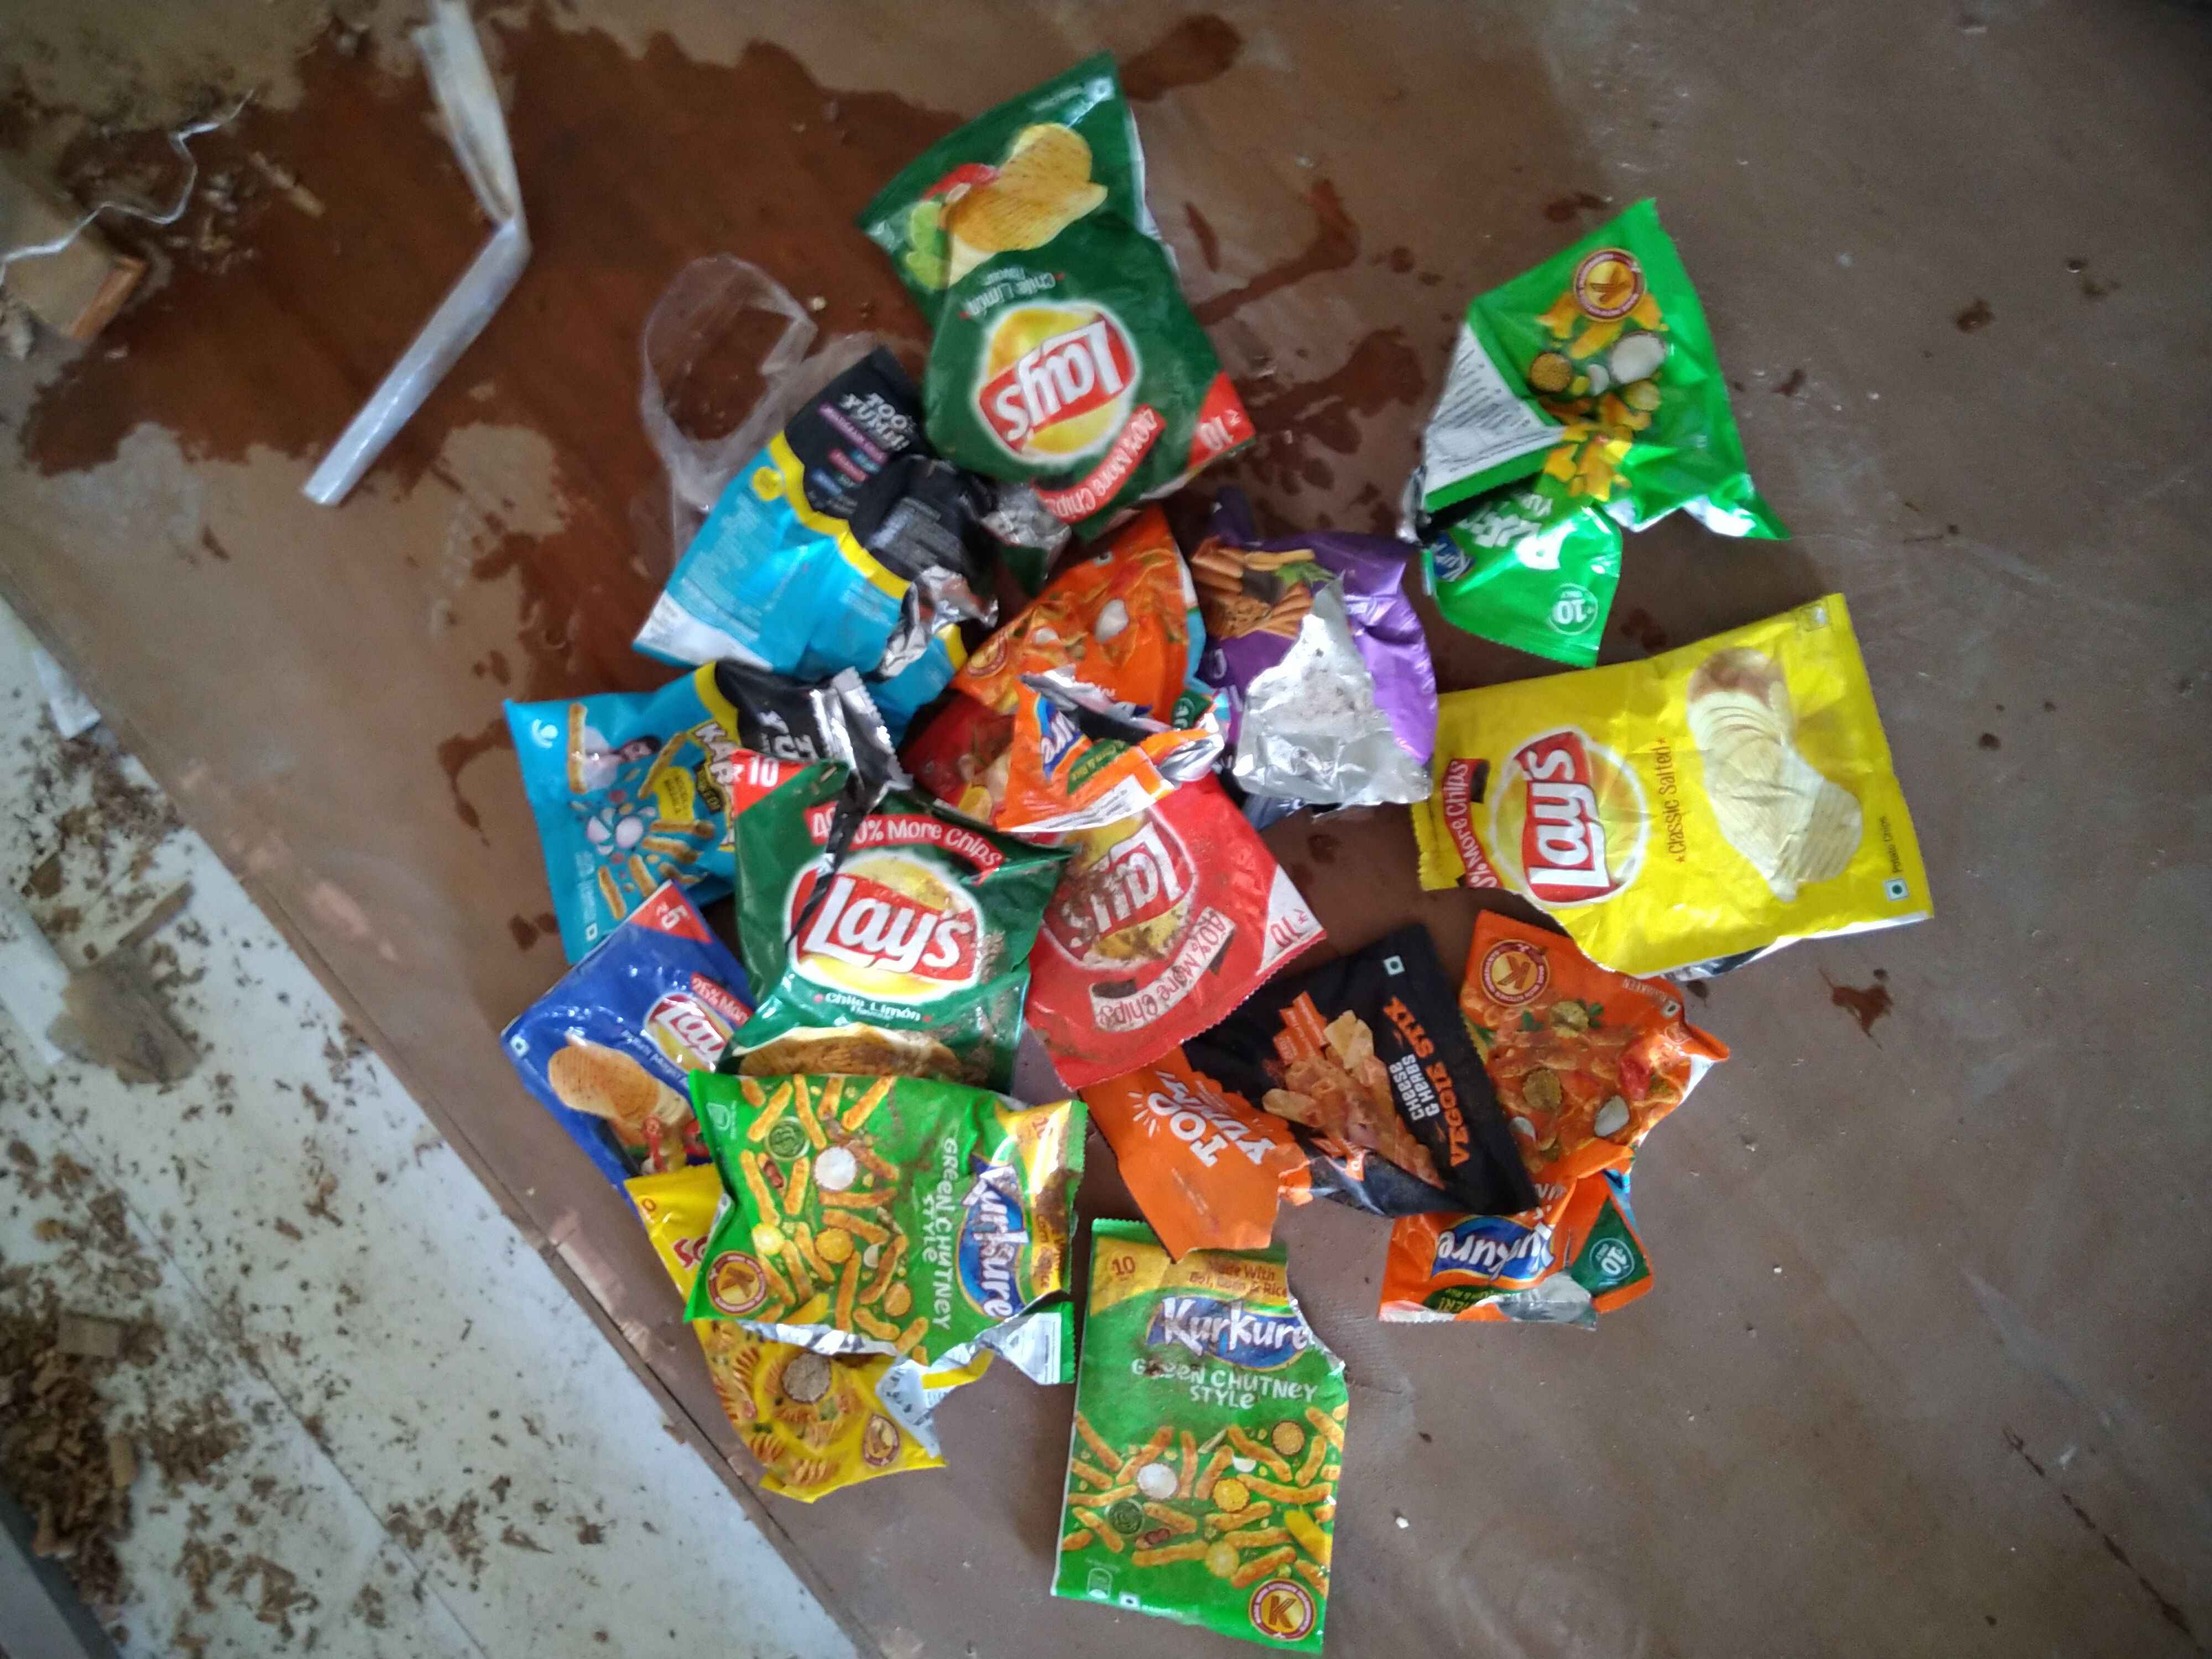Lays: (768, 843, 1003, 1032), (960, 295, 1169, 455), (1503, 720, 1670, 913), (1055, 803, 1191, 981), (625, 971, 751, 1077)
kurkure: (954, 1147, 1057, 1354), (1157, 1288, 1332, 1384), (1418, 1204, 1576, 1291), (1425, 544, 1486, 592)
tooyumm: (1136, 1065, 1292, 1195), (834, 375, 932, 483), (747, 702, 850, 772)
